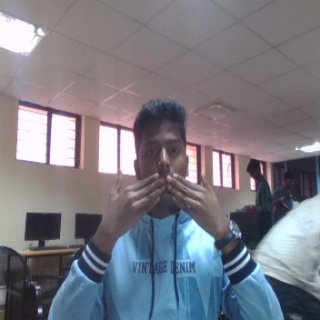Thank You: (98, 169, 231, 243)
